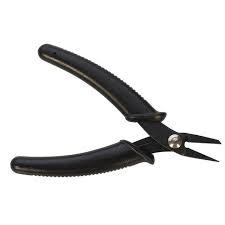pliers: (9, 42, 221, 176)
